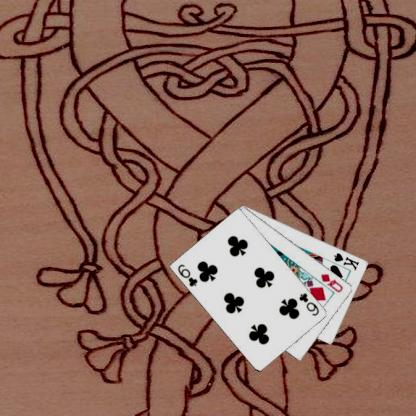6C: (296, 290, 321, 317), (176, 262, 200, 288)
KS: (332, 250, 361, 272)
QD: (318, 271, 344, 294)
